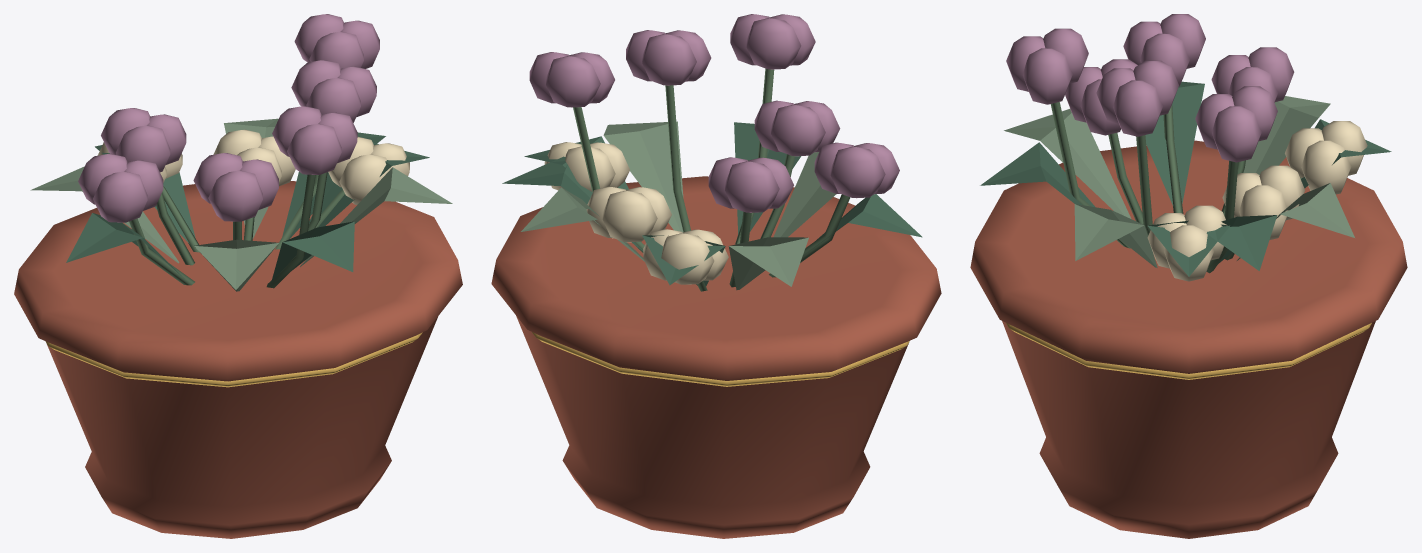
Rendered from village_planter.glb.
3 views of the same model, side by side, from view 1: azimuth 30°, elevation 25°; view 2: azimuth 150°, elevation 25°; view 3: azimuth 270°, elevation 25° (orthographic). The views are drawn at different scales.
Visible parts, largest first — view 1: village_planter; view 2: village_planter; view 3: village_planter.
Boxes of the visible parts, x1,y1,x2,y2 form: village_planter: (14,14,462,538); village_planter: (491,14,941,538); village_planter: (970,14,1407,538).
Bounding box in the file's own units: 0.54 × 0.54 × 0.48.
